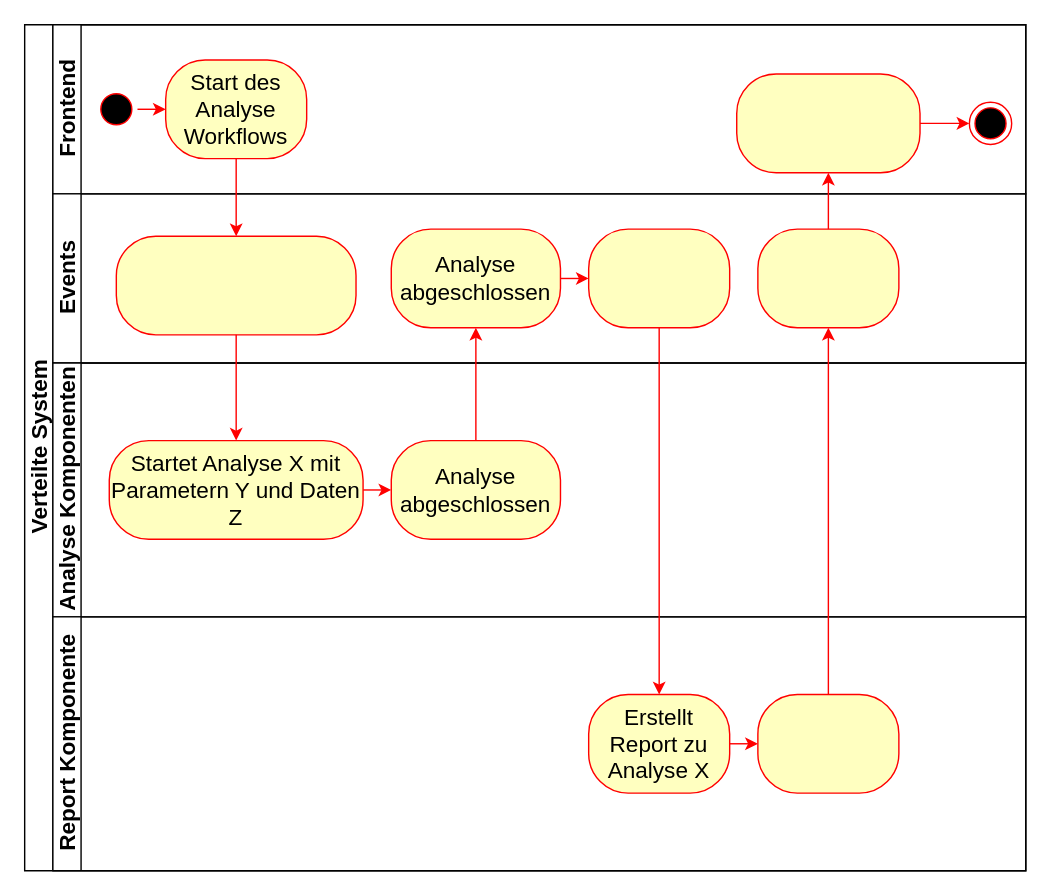
This 1050x895 diagram has some shape labels left out. Here are the shapes that lost their labels. From the top down, the centre of each, then its label:
(x=827, y=123): Analyseworkflow abgeschlossen
(x=235, y=285): Starte Analyse X mit Parametern Y und Daten Z
(x=658, y=278): Erstelle Report zu Analye X
(x=827, y=278): Report zu Analyse X erstellt
(x=827, y=743): Report erstellt
